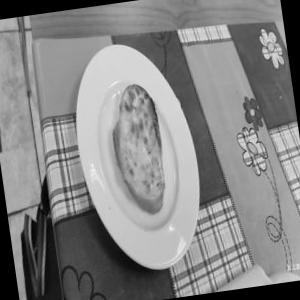cheese_sandwich: (94, 80, 198, 227)
